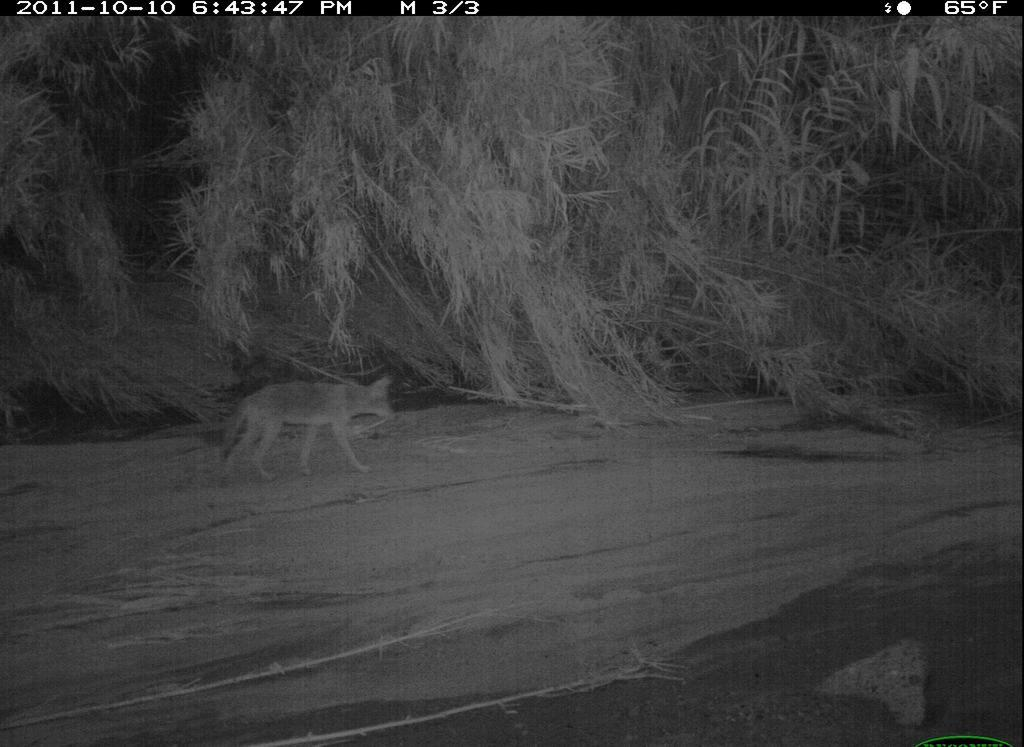coyote: (203, 367, 419, 501)
